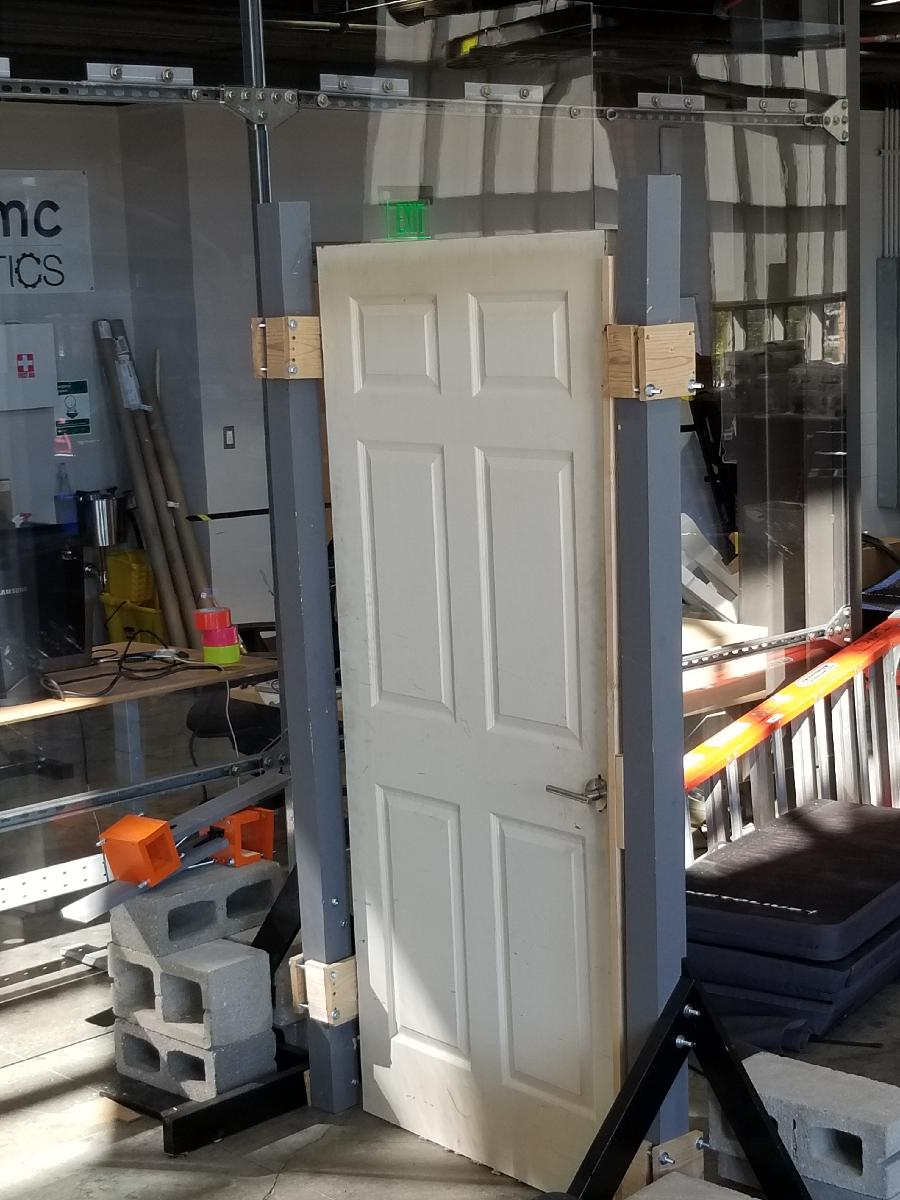door: (310, 228, 625, 1200)
doorHandle: (542, 775, 616, 820)
